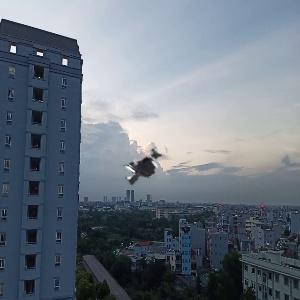drone: (108, 132, 176, 200)
